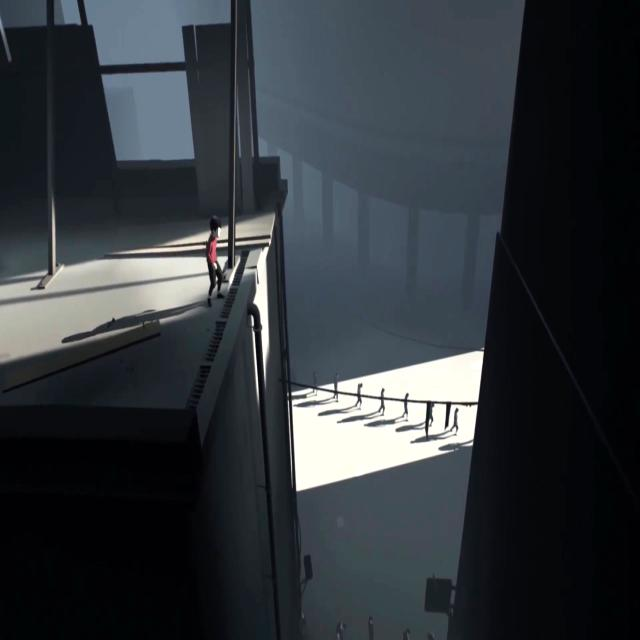boy: (207, 217, 226, 304)
zombie: (450, 408, 459, 438), (354, 384, 364, 408), (378, 387, 386, 414), (334, 622, 345, 640), (331, 374, 338, 402), (402, 392, 408, 421), (368, 616, 375, 639), (312, 371, 317, 396), (402, 626, 410, 640), (427, 629, 436, 640), (430, 403, 434, 426)
